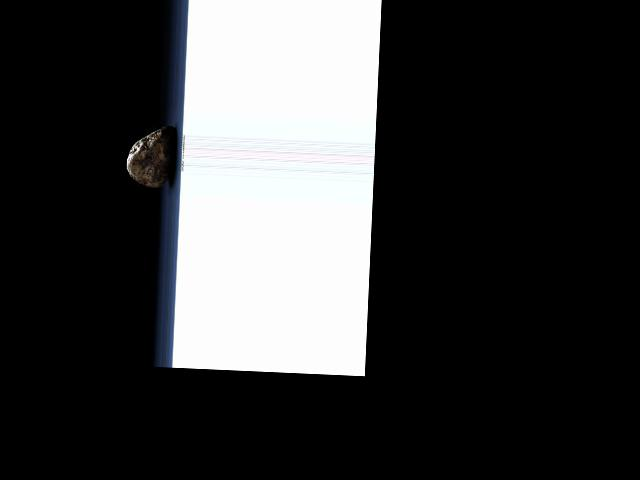beet: (126, 125, 175, 189)
